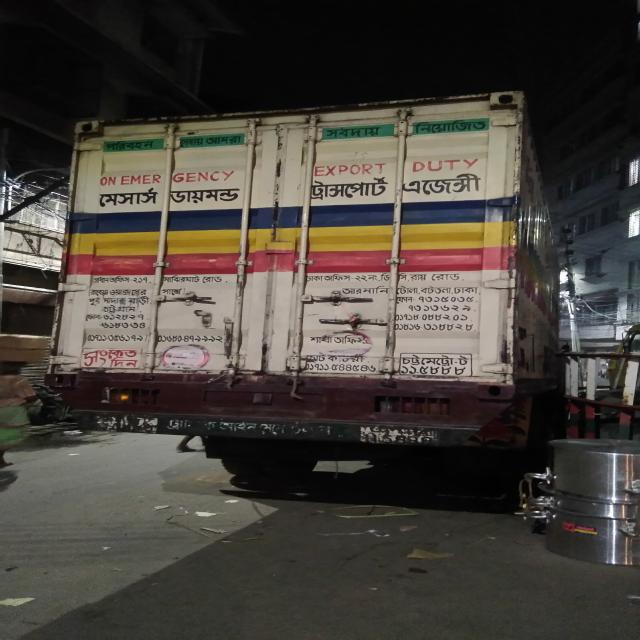truck: (29, 86, 587, 507)
